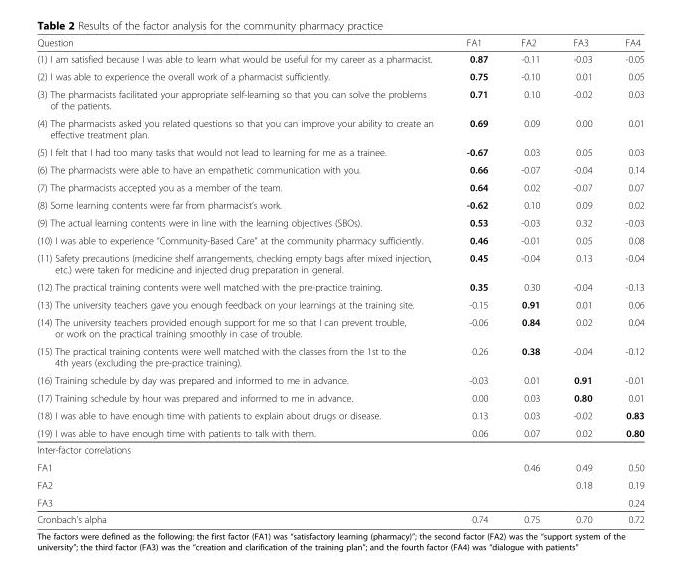table: (36, 36, 643, 524)
table column: (36, 36, 449, 524), (449, 36, 503, 524), (555, 36, 608, 524), (503, 36, 555, 524), (608, 36, 643, 524)
table column header: (36, 36, 643, 50)
table projected row header: (36, 441, 643, 458)
table row: (36, 84, 643, 113), (36, 113, 643, 142), (36, 248, 643, 277), (36, 341, 643, 370), (36, 313, 643, 341), (36, 142, 643, 160), (36, 160, 643, 178), (36, 195, 643, 213), (36, 213, 643, 231), (36, 277, 643, 295), (36, 295, 643, 313), (36, 370, 643, 388), (36, 388, 643, 406), (36, 423, 643, 441), (36, 475, 643, 493), (36, 50, 643, 67), (36, 67, 643, 84), (36, 178, 643, 195), (36, 231, 643, 248), (36, 406, 643, 423), (36, 441, 643, 458), (36, 458, 643, 475), (36, 493, 643, 510), (36, 36, 643, 50), (36, 510, 643, 524)
